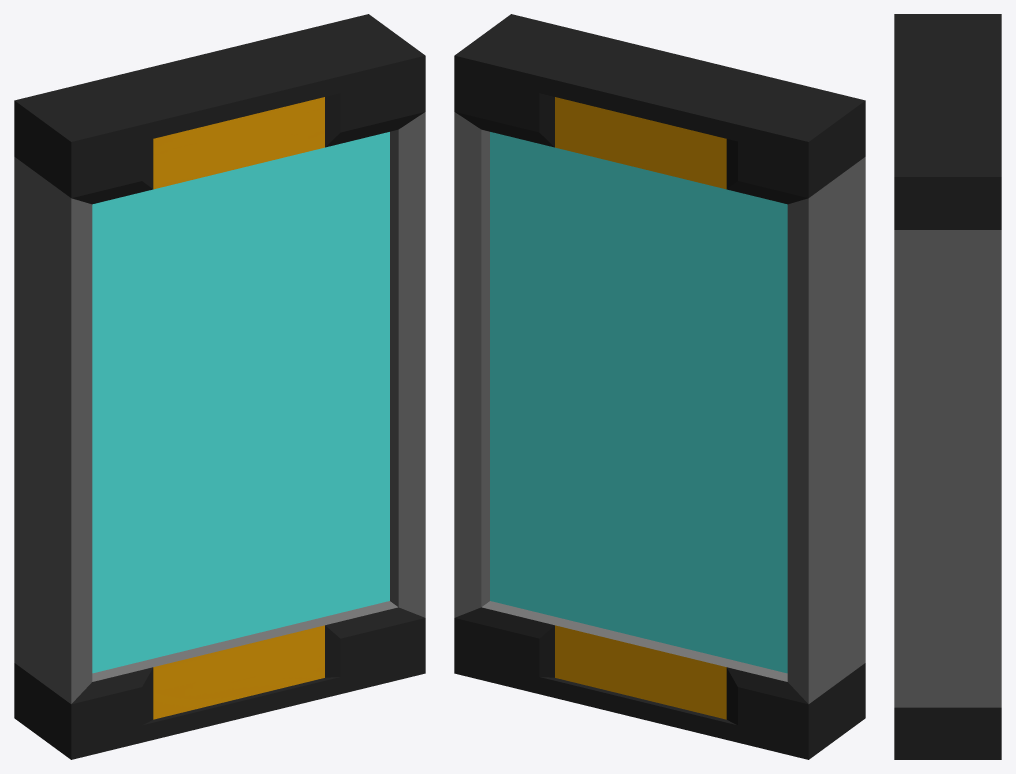
Rendered from ElectricDoor.fbx.
3 views of the same model, side by side, from view 1: azimuth 30°, elevation 25°; view 2: azimuth 150°, elevation 25°; view 3: azimuth 270°, elevation 25° (orthographic). The views are drawn at different scales.
Visible parts, largest first — view 1: ElectricDoor; view 2: ElectricDoor; view 3: ElectricDoor.
Boxes of the visible parts, <box> form: ElectricDoor: <box>14,14,425,759</box>; ElectricDoor: <box>454,14,865,759</box>; ElectricDoor: <box>894,14,1001,759</box>.
Bounding box in the file's own units: 180 × 300 × 50.
Materials: 1 (1 with a texture image).
